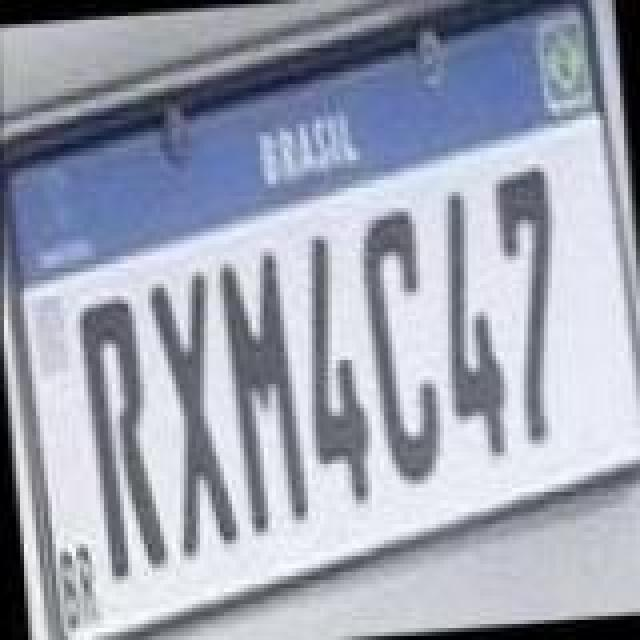4: (294, 228, 374, 508), (434, 188, 514, 464)
7: (494, 166, 574, 450)
C: (358, 204, 446, 488)
M: (218, 250, 310, 538)
R: (78, 294, 170, 586)
X: (150, 272, 242, 564)
